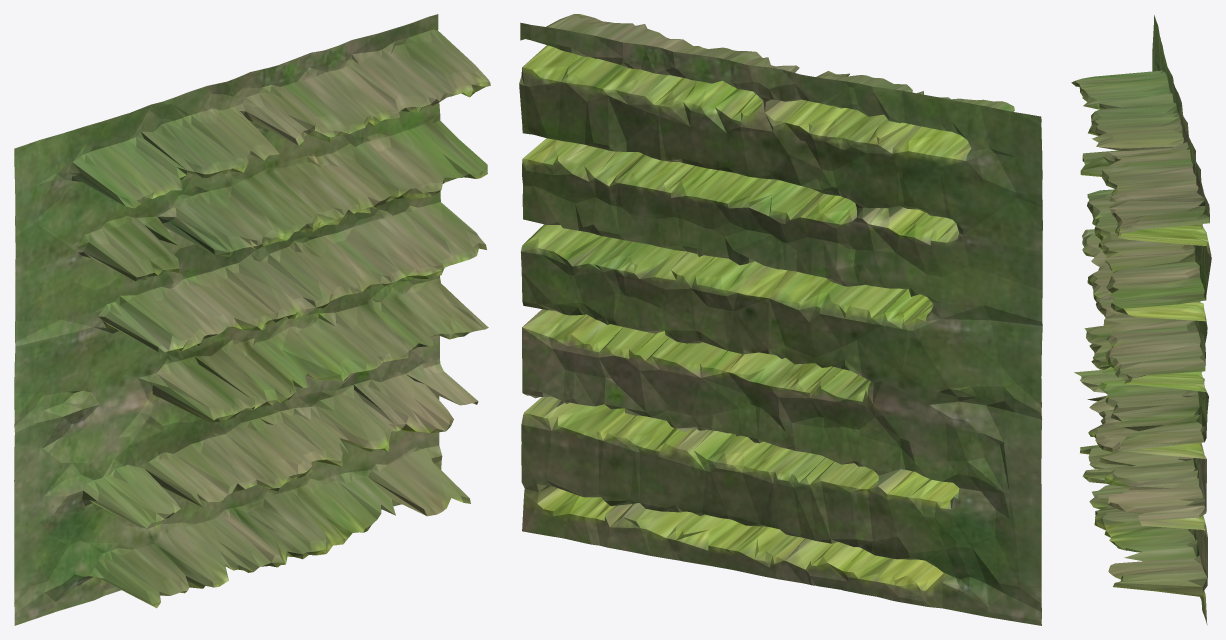
The model's file is map_230_90.obj.
3 renders of one model, left to right at view 1: azimuth 30°, elevation 25°; view 2: azimuth 150°, elevation 25°; view 3: azimuth 270°, elevation 25°, orthographic. The views are drawn at different scales.
Visible parts, largest first — view 1: grp1; view 2: grp1; view 3: grp1.
Part boxes in pixels (<box>): grp1: <box>14,14,490,625</box>; grp1: <box>519,14,1042,625</box>; grp1: <box>1071,15,1211,624</box>.
Size of the model in its own units: 10 by 10 by 3.05.
1 material, 1 textured.
